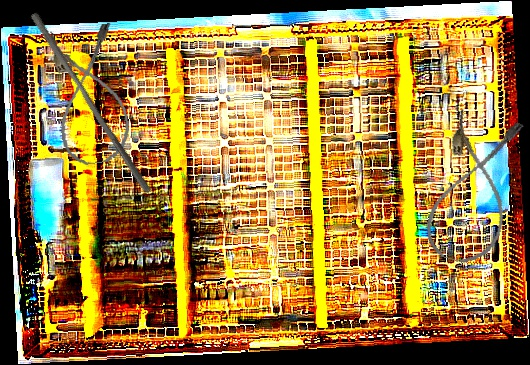Cannula: (419, 107, 530, 270), (47, 22, 134, 168)
Pusher: (23, 11, 160, 195)
